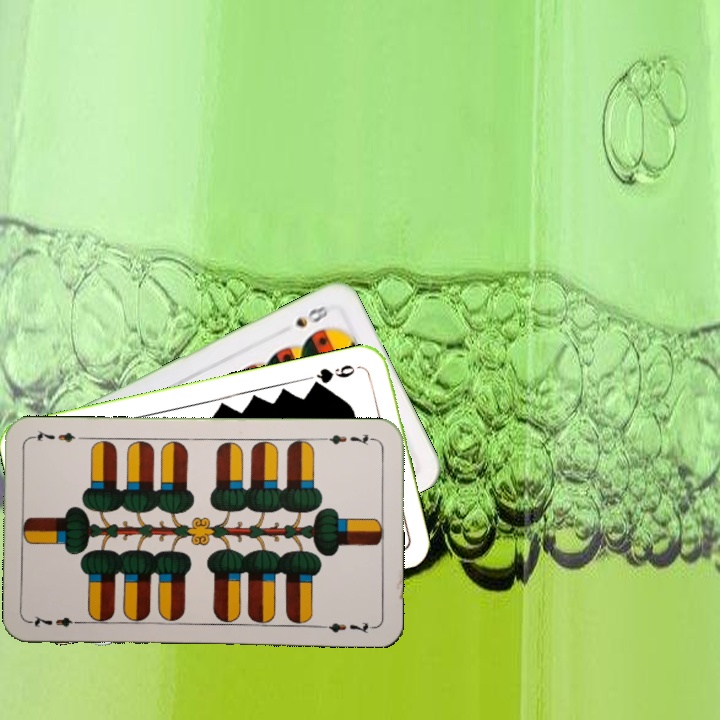E7: (319, 429, 378, 448), (28, 611, 87, 630)
G9: (308, 360, 365, 390)
S8: (291, 302, 331, 331)
